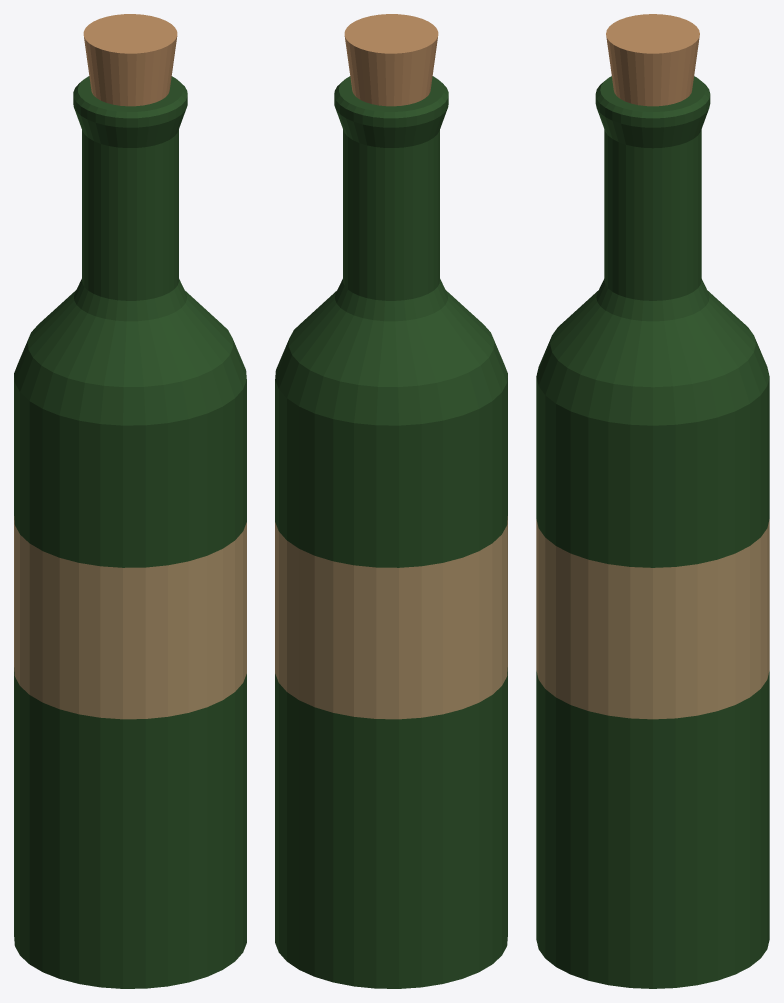
The model's file is WineBottle1_Green.fbx.
3 views of the same model, side by side, from view 1: azimuth 30°, elevation 25°; view 2: azimuth 150°, elevation 25°; view 3: azimuth 270°, elevation 25° (orthographic).
Visible parts, largest first — view 1: WineBottle V1 Green; view 2: WineBottle V1 Green; view 3: WineBottle V1 Green.
Part boxes in pixels (x1=…): WineBottle V1 Green: x1=14, y1=14, x2=246, y2=988; WineBottle V1 Green: x1=275, y1=14, x2=507, y2=988; WineBottle V1 Green: x1=536, y1=14, x2=769, y2=988.
Bounding box in the file's own units: 7 × 30 × 7.
